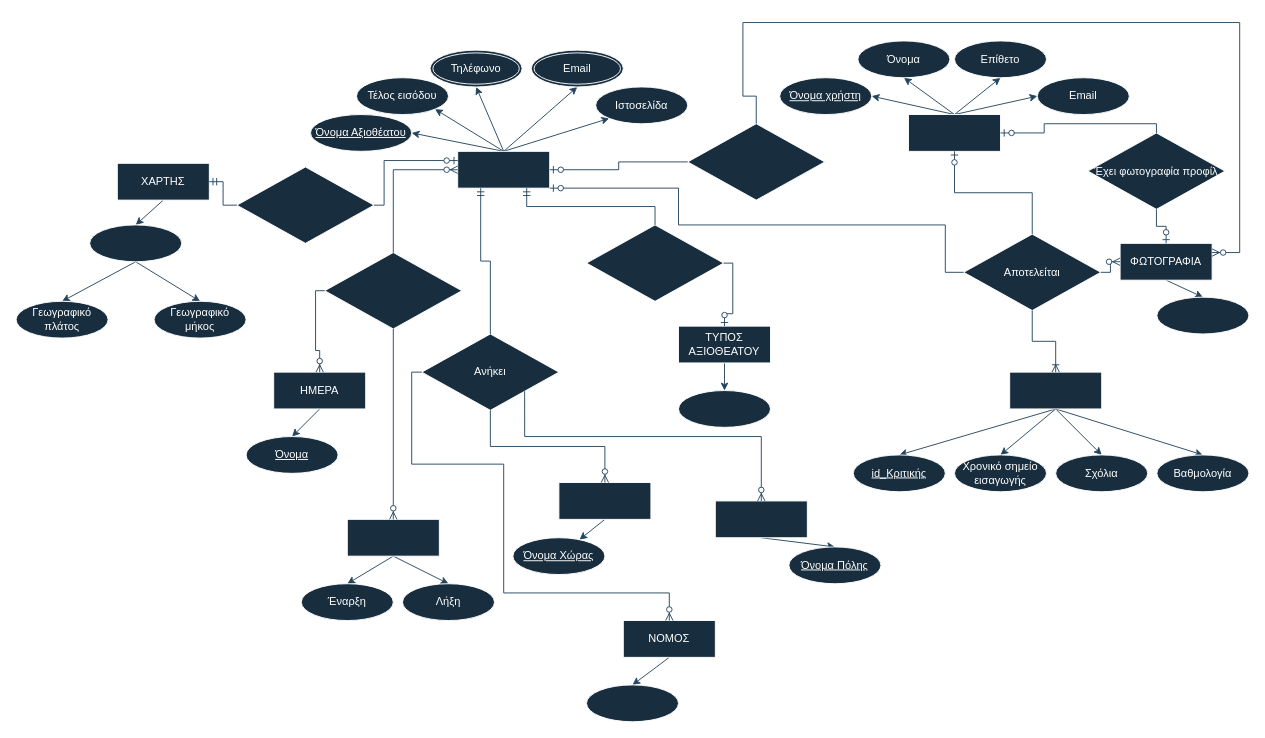
Image size: 1265x738. Some labels were removed from this diagram. Here are the shapes that lost their labels. From the top down, the centre of each, then its label:
At pixel 954 132: "ΧΡΗΣΤΗΣ".
At pixel 503 169: "ΑΞΙΟΘΕΑΤΟ".
At pixel 756 161: "Έχει φωτογραφία".
At pixel 305 204: "Έχει".
At pixel 135 243: "Συντεταγμένες".
At pixel 655 262: "Είναι τύπου".
At pixel 393 290: "Λειτουργεί".
At pixel 1202 315: "Url".
At pixel 724 408: "Όνομα Τύπου".
At pixel 1055 390: "ΚΡΙΤΙΚΗ".
At pixel 604 500: "ΧΩΡΑ".
At pixel 760 519: "ΠΟΛΗ".
At pixel 392 537: "ΩΡΑΡΙΟ ΛΕΙΤΟΥΡΓΙΑΣ".
At pixel 632 703: "Όνομα Νομού".
